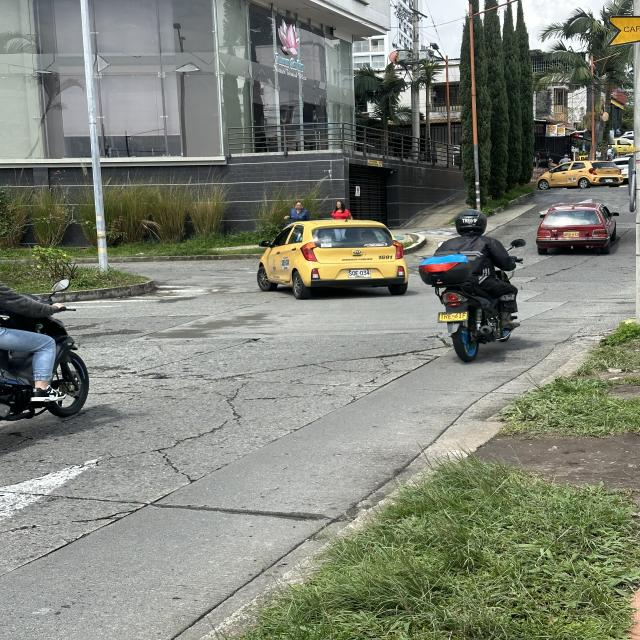number plate: (438, 311, 468, 322), (348, 269, 371, 278)
